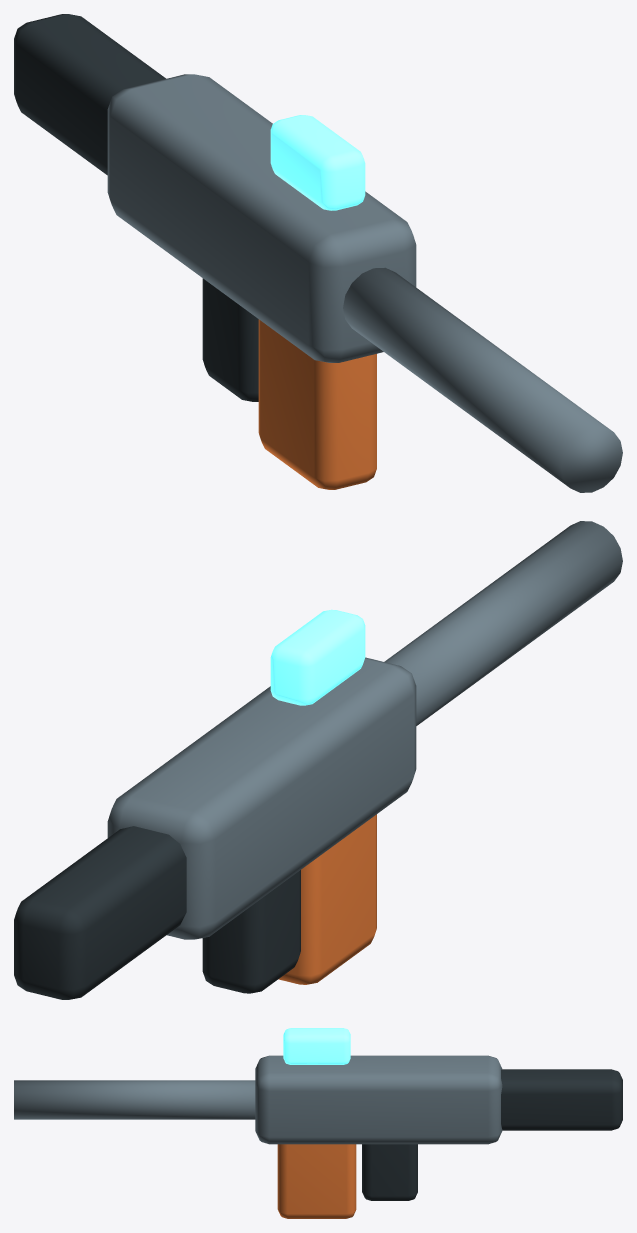
Rendered from SM_FE_RiflePose.fbx.
The picture shows the model from 3 angles, top to bottom: view 1: azimuth 30°, elevation 25°; view 2: azimuth 150°, elevation 25°; view 3: azimuth 270°, elevation 25°; orthographic projection. The views are drawn at different scales.
Visible parts, largest first — view 1: SM_FE_RiflePose; view 2: SM_FE_RiflePose; view 3: SM_FE_RiflePose.
Boxes of the visible parts, <box> form: SM_FE_RiflePose: <box>14,14,622,492</box>; SM_FE_RiflePose: <box>14,521,622,999</box>; SM_FE_RiflePose: <box>14,1028,622,1218</box>.
Bounding box in the file's own units: 12 × 108 × 36.
